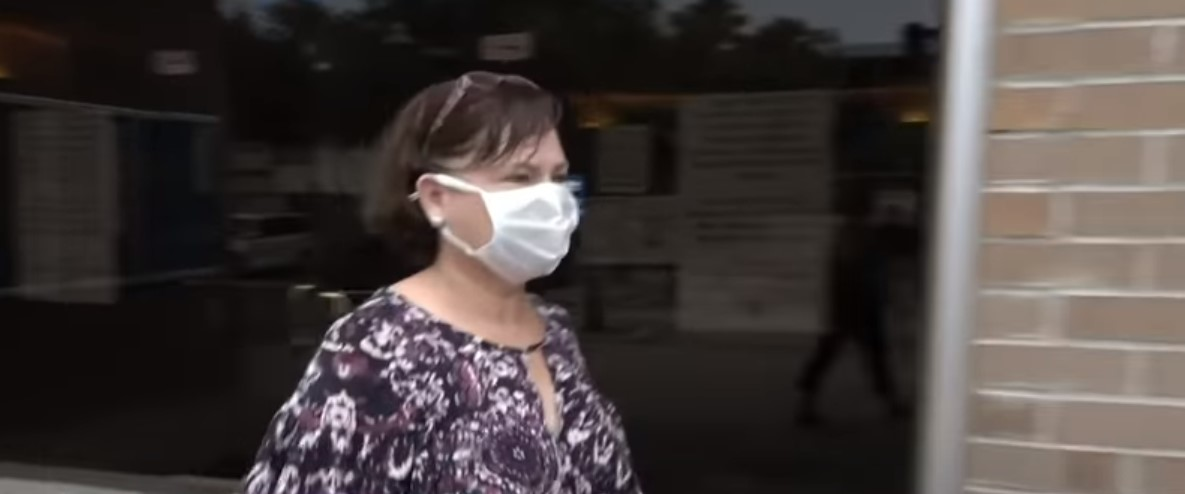face_with_mask: (405, 63, 582, 285)
